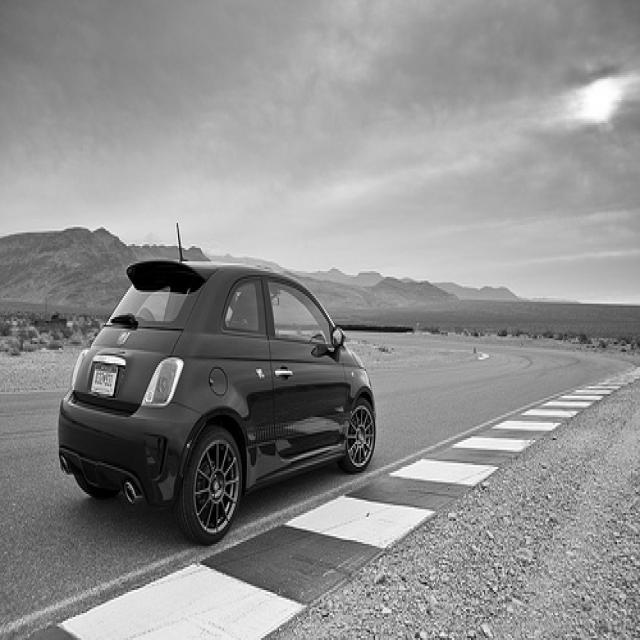car: (58, 256, 376, 544)
plat_license: (90, 360, 119, 398)
